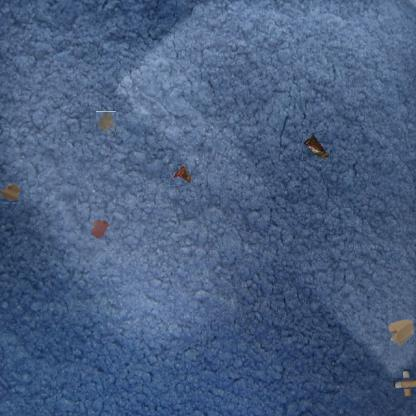dirty: (387, 318, 415, 348), (302, 132, 330, 160), (170, 164, 192, 186), (0, 181, 21, 203), (396, 372, 416, 393)
liquid: (96, 112, 117, 134), (90, 218, 110, 240)
